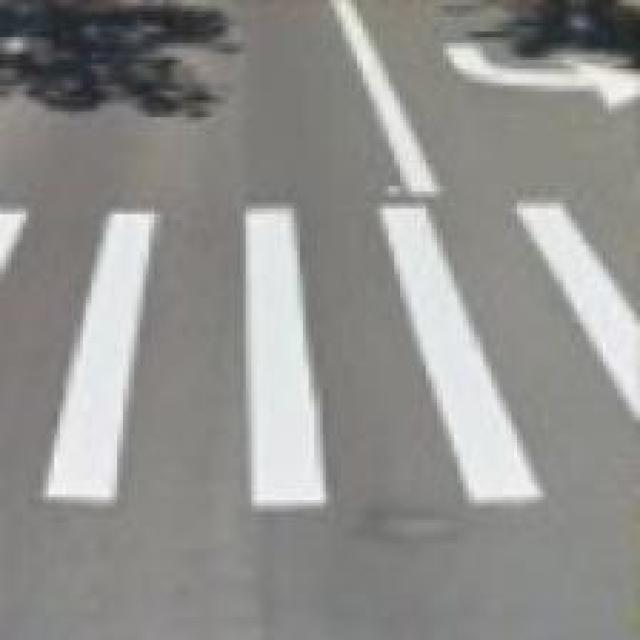walk-crossing: (0, 197, 634, 517)
